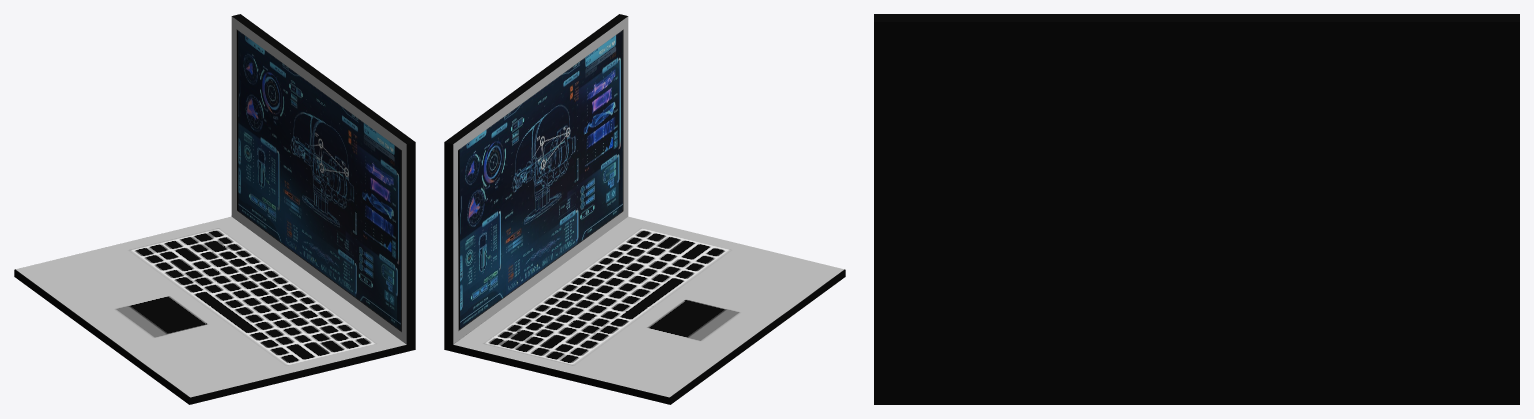
Rendered from Laptop_GenMain2.fbx.
3 renders of one model, left to right at view 1: azimuth 30°, elevation 25°; view 2: azimuth 150°, elevation 25°; view 3: azimuth 270°, elevation 25°, orthographic. The views are drawn at different scales.
Parts seen in each view (by area): view 1: Laptop; view 2: Laptop; view 3: Laptop.
Part boxes in pixels (left/top/right/bottom): Laptop: left=14, top=14, right=415, bottom=404; Laptop: left=444, top=14, right=845, bottom=404; Laptop: left=874, top=14, right=1519, bottom=404.
Bounding box in the file's own units: 42.42 × 37.21 × 56.87.
